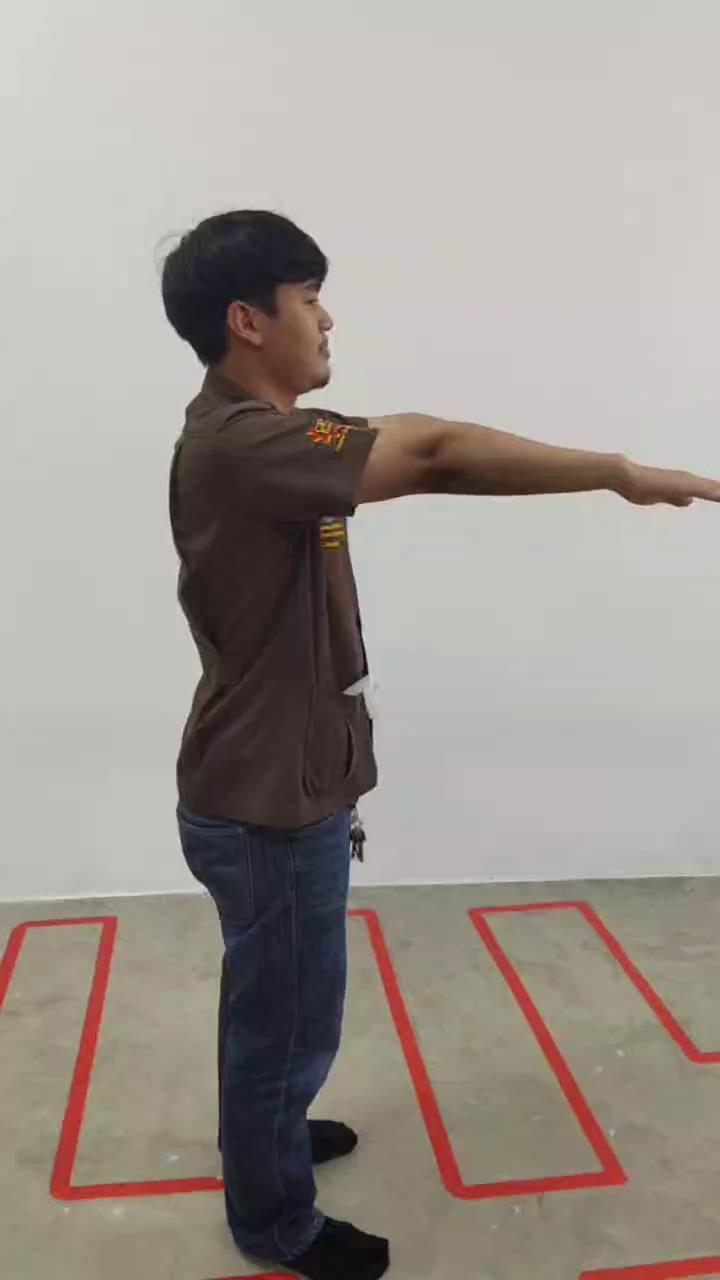squat up: (162, 210, 718, 1280)
